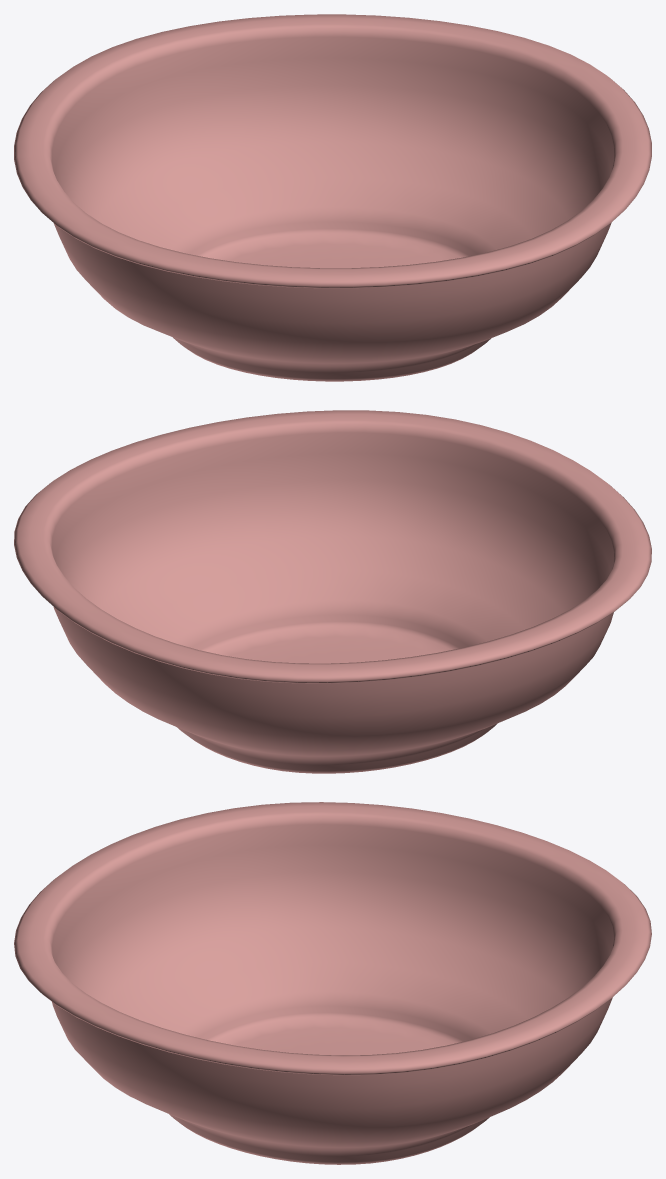
File: bowl.fbx
3 renders of one model, top to bottom at view 1: azimuth 30°, elevation 25°; view 2: azimuth 150°, elevation 25°; view 3: azimuth 270°, elevation 25°, orthographic. The views are drawn at different scales.
Parts seen in each view (by area): view 1: Dishes.039; view 2: Dishes.039; view 3: Dishes.039.
Part boxes in pixels (bbox=[...]): Dishes.039: bbox=[14, 14, 651, 381]; Dishes.039: bbox=[14, 410, 651, 773]; Dishes.039: bbox=[14, 802, 651, 1164].
Size of the model in its own units: 93.56 by 26.68 by 93.6.
